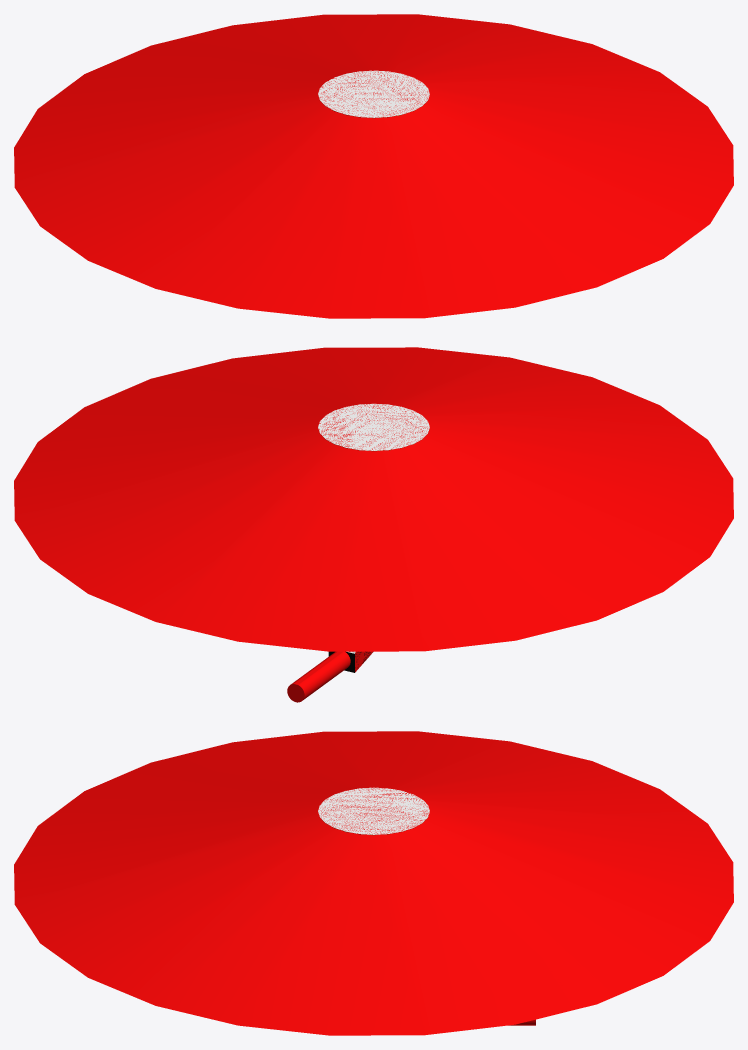
File: gunUFO.dae
3 views of the same model, one above another, from view 1: azimuth 30°, elevation 25°; view 2: azimuth 150°, elevation 25°; view 3: azimuth 270°, elevation 25° (orthographic).
Visible parts, largest first — view 1: SketchUp (×3); view 2: SketchUp (×4); view 3: SketchUp (×3).
Boxes of the visible parts, x1,y1,x2,y2 form: SketchUp (×3): [14, 14, 733, 318]; SketchUp (×4): [14, 347, 733, 702]; SketchUp (×3): [14, 731, 733, 1035].
Bounding box in the file's own units: 756 × 756 × 251.
